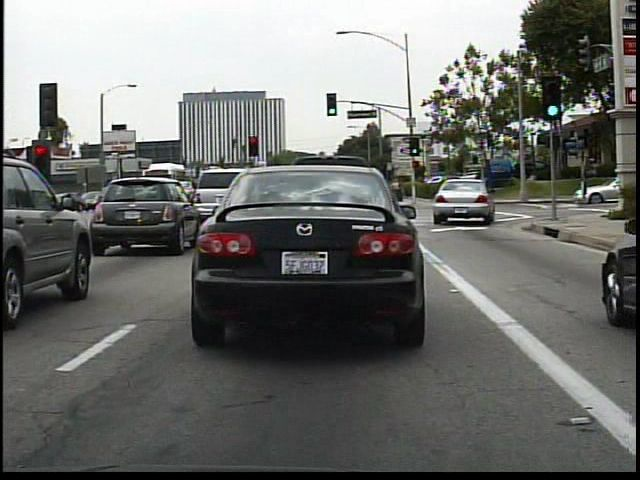person: (386, 172, 406, 207)
